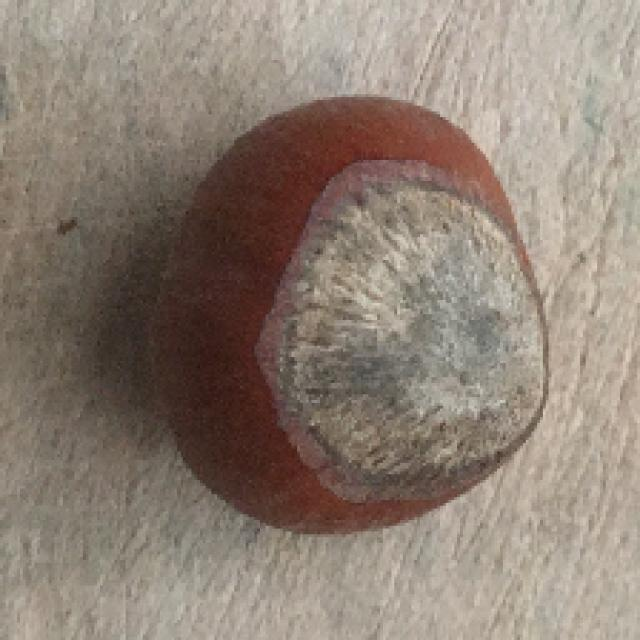qualityHazelnut: (149, 97, 551, 533)
